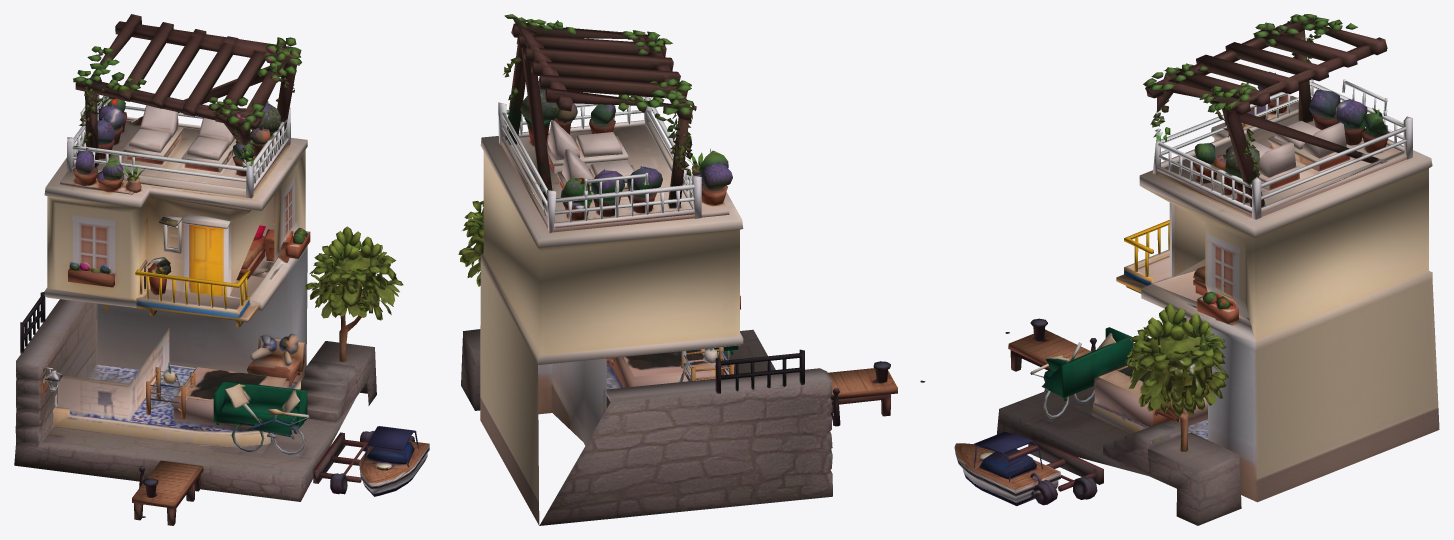
The model's file is tier2-lv10.glb.
The picture shows the model from 3 angles, left to right: view 1: azimuth 30°, elevation 25°; view 2: azimuth 150°, elevation 25°; view 3: azimuth 270°, elevation 25°; orthographic projection. The views are drawn at different scales.
Parts seen in each view (by area): view 1: tripo_node_393b02aa-6fdd-4f9c-ac71-d1d0687082cb; view 2: tripo_node_393b02aa-6fdd-4f9c-ac71-d1d0687082cb; view 3: tripo_node_393b02aa-6fdd-4f9c-ac71-d1d0687082cb.
Part boxes in pixels (x1,y1,x2,y2): tripo_node_393b02aa-6fdd-4f9c-ac71-d1d0687082cb: (14,14,429,525); tripo_node_393b02aa-6fdd-4f9c-ac71-d1d0687082cb: (458,14,925,525); tripo_node_393b02aa-6fdd-4f9c-ac71-d1d0687082cb: (954,14,1439,525).
Size of the model in its own units: 1 by 0.998 by 1.09.
1 material, 1 textured.
